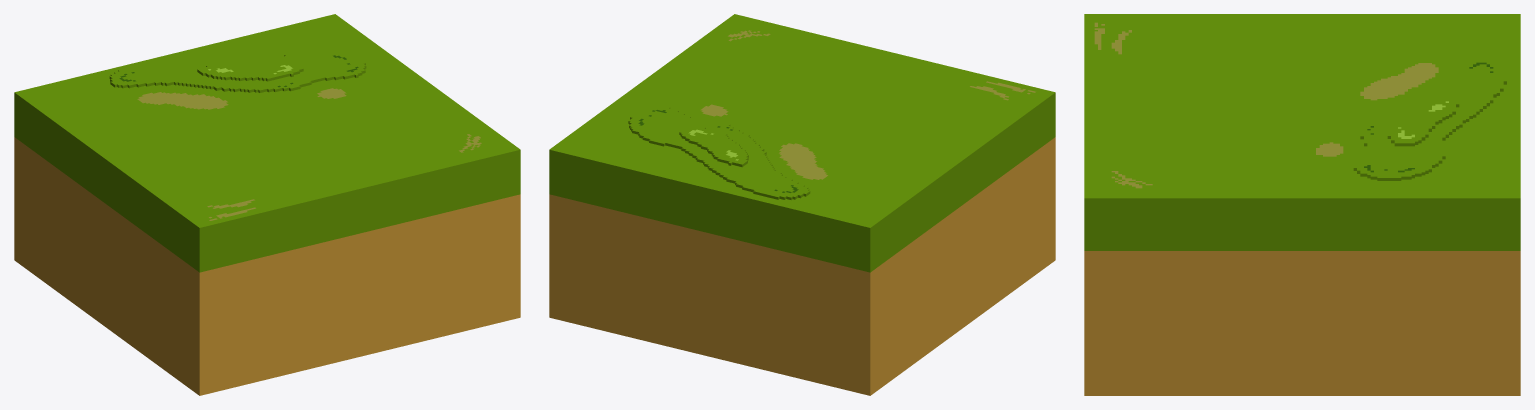
The picture shows the model from 3 angles, left to right: view 1: azimuth 30°, elevation 25°; view 2: azimuth 150°, elevation 25°; view 3: azimuth 270°, elevation 25°; orthographic projection. The views are drawn at different scales.
Parts seen in each view (by area): view 1: 3J; view 2: 3J; view 3: 3J.
Boxes of the visible parts, box(x1,y1,x2,y2) form: 3J: box(14, 14, 520, 395); 3J: box(549, 14, 1055, 395); 3J: box(1084, 14, 1520, 395).
Bounding box in the file's own units: 12.8 × 6.6 × 12.8.
1 material, 1 textured.
